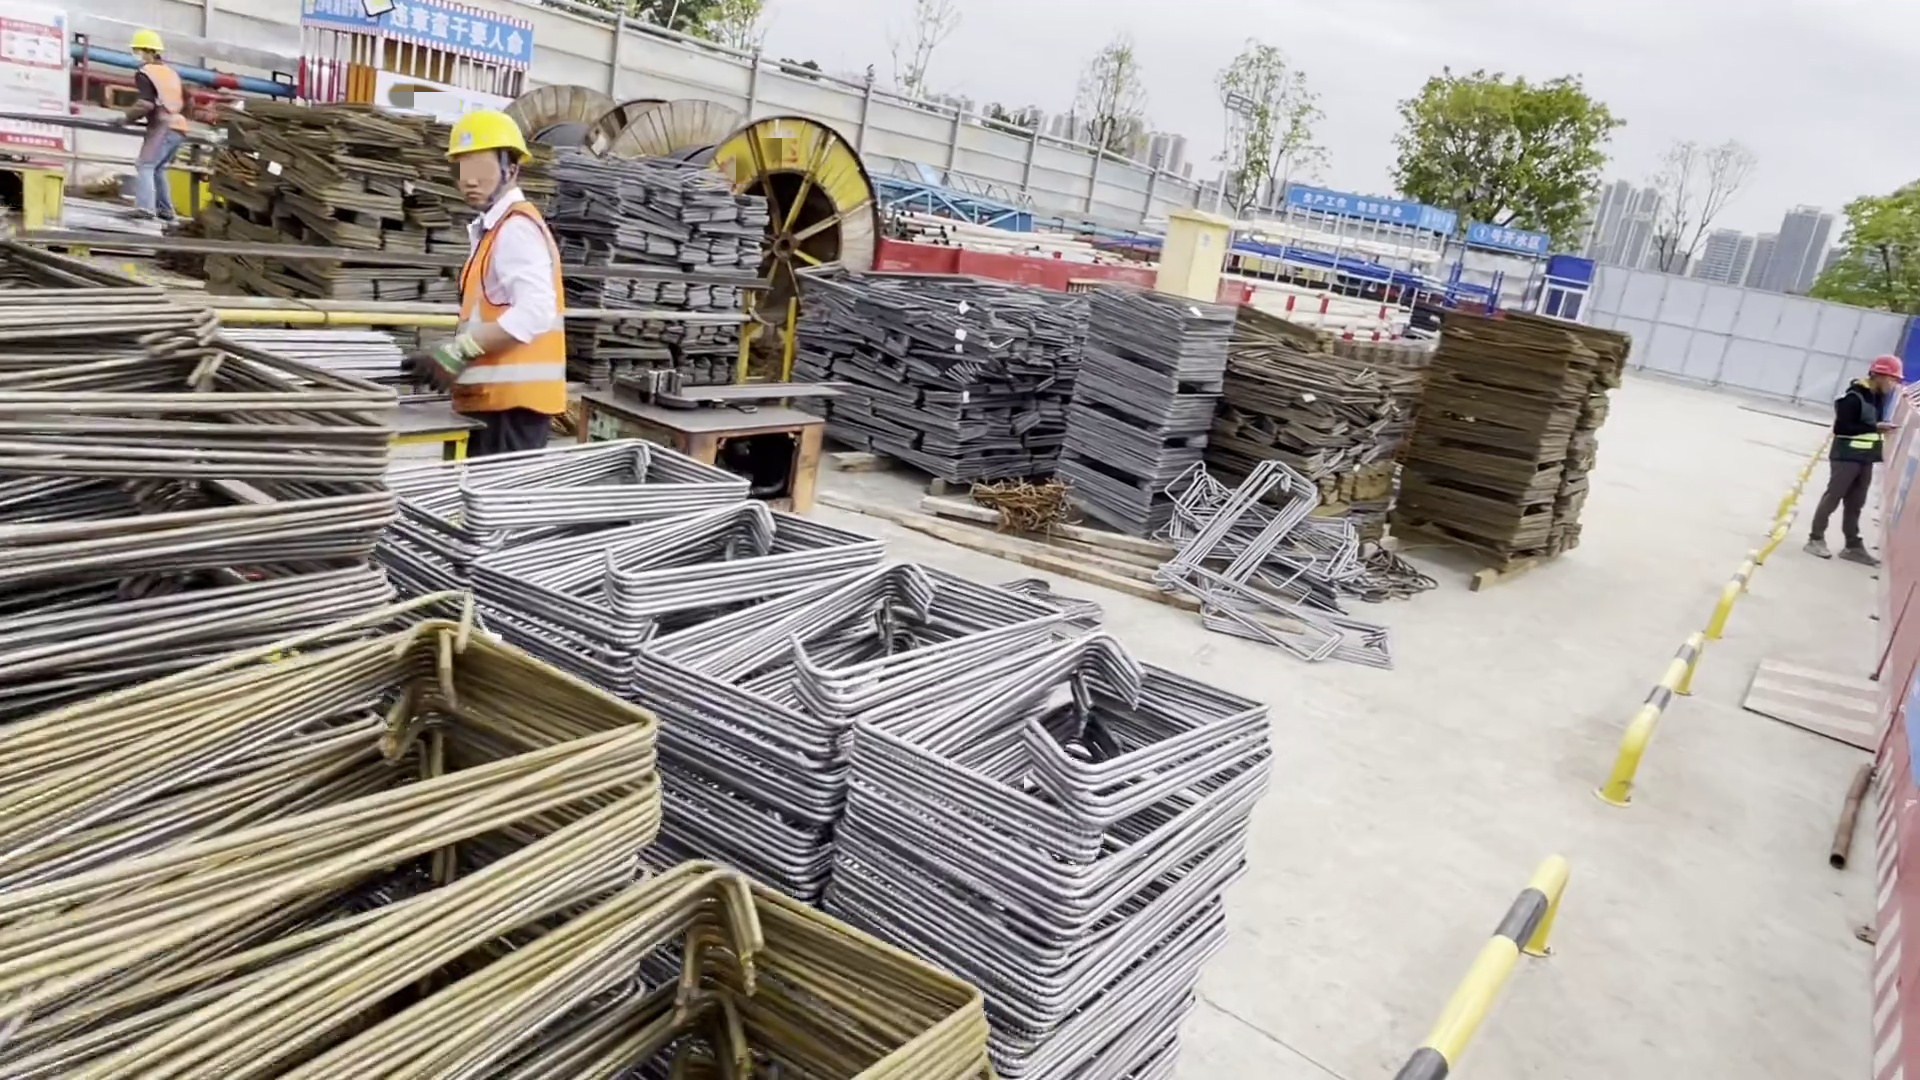cutter: (598, 365, 845, 518)
ebox: (1160, 216, 1229, 298)
fence: (877, 236, 1138, 291)
helmet: (448, 110, 536, 159), (127, 30, 166, 50), (1870, 353, 1898, 377)
person: (400, 109, 567, 455), (1801, 354, 1900, 565), (109, 29, 190, 234)
slogan: (300, 1, 531, 56), (1288, 190, 1444, 236)
vest: (451, 211, 567, 412), (138, 65, 182, 128)
